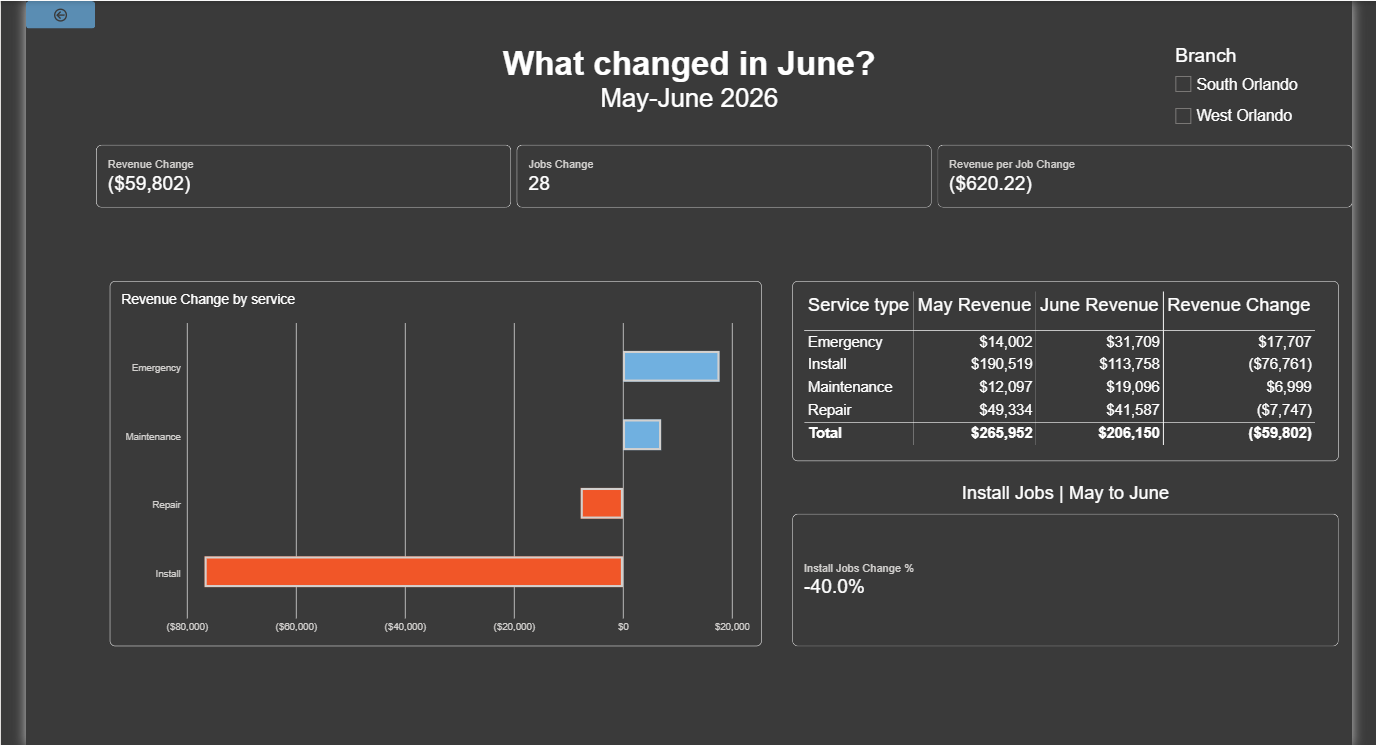

The dashboard page shown, as its layout file describes it:
{"tool":"powerbi","page":{"name":"May vs. June","canvas":[1920,1080],"ordinal":1},"visuals":[{"type":"actionButton","box":[0,0,100,40],"z":3000},{"type":"textbox","box":[0,63.3,1920.1,119.4],"z":4000},{"type":"slicer","fields":{"Values":["FactJobs.branch"]},"box":[1655.3,63.3,197.4,132.2],"z":4001},{"type":"cardVisual","fields":{"Data":["FactJobs.Revenue Change","FactJobs.Jobs Change","FactJobs.Revenue per Job Change"]},"box":[100.5,208.5,1819.1,91.2],"z":4002},{"type":"clusteredBarChart","title":"Revenue Change by service","fields":{"Category":["FactJobs.service_type"],"Y":["FactJobs.Revenue Change"]},"box":[121,405.9,944,528.8],"z":4003},{"type":"tableEx","fields":{"Values":["FactJobs.service_type","FactJobs.May Revenue","FactJobs.June Revenue","FactJobs.Revenue Change"]},"box":[1109.7,405.9,791.3,260.7],"z":4004},{"type":"cardVisual","title":"Install Jobs | May to June","fields":{"Data":["FactJobs.Install Jobs Change %"]},"box":[1109.7,696.4,791.3,238.3],"z":4005}]}

Visuals, with their boxes on the page's 1920x1080 design canvas (x1, y1, x2, y2). These are canvas units, not pixel positions in the 1376x745 screenshot, which may show the page scaled, cropped or inside an application window:
actionButton: 0:0:100:40
textbox: 0:63:1920:183
slicer - FactJobs.branch: 1655:63:1853:196
cardVisual - FactJobs.Revenue Change x FactJobs.Jobs Change: 100:208:1920:300
"Revenue Change by service" clusteredBarChart: 121:406:1065:935
tableEx - FactJobs.service_type x FactJobs.May Revenue: 1110:406:1901:667
"Install Jobs | May to June" cardVisual: 1110:696:1901:935
